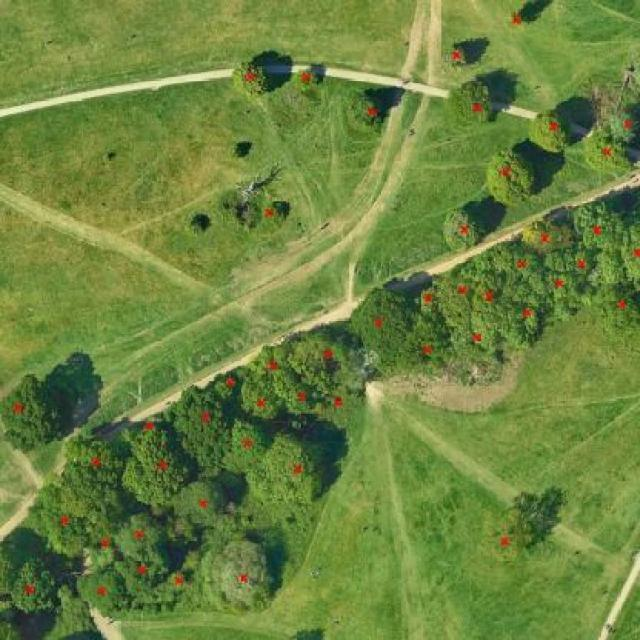tree: (245, 428, 332, 514), (350, 282, 415, 382), (1, 372, 76, 456), (165, 379, 229, 476), (212, 535, 283, 619), (59, 428, 128, 509), (27, 478, 91, 564), (472, 499, 545, 573), (126, 442, 197, 516), (292, 323, 366, 385), (396, 314, 462, 383), (480, 143, 542, 209), (539, 256, 599, 324), (450, 311, 515, 372), (2, 558, 63, 622), (439, 74, 502, 135), (115, 502, 173, 565), (581, 126, 639, 186), (72, 564, 130, 624), (220, 419, 275, 482), (174, 477, 235, 532), (567, 196, 625, 252), (592, 275, 639, 344), (475, 273, 514, 356), (491, 236, 547, 292), (507, 296, 555, 358), (338, 83, 389, 139), (526, 105, 575, 162), (441, 255, 476, 334), (513, 213, 573, 256), (239, 339, 298, 382), (317, 381, 366, 432), (85, 509, 123, 571), (235, 376, 283, 424), (542, 249, 601, 286), (441, 206, 481, 260), (229, 57, 272, 103), (591, 240, 631, 289), (121, 550, 162, 596), (620, 204, 640, 296), (282, 375, 323, 419), (288, 62, 331, 99), (603, 103, 640, 145), (205, 368, 247, 405), (128, 405, 169, 442), (438, 39, 477, 75), (256, 196, 293, 233), (413, 278, 442, 318), (179, 208, 213, 242), (164, 565, 191, 599), (502, 9, 536, 35), (222, 137, 250, 166)
